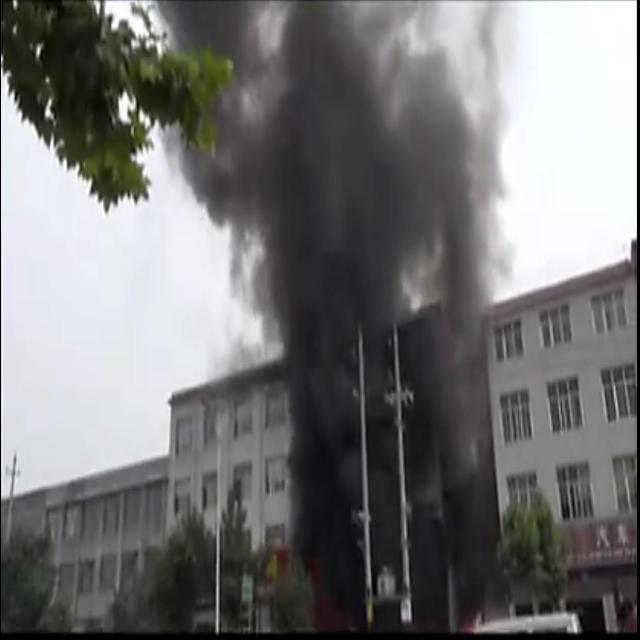Smoke: (153, 1, 518, 627)
